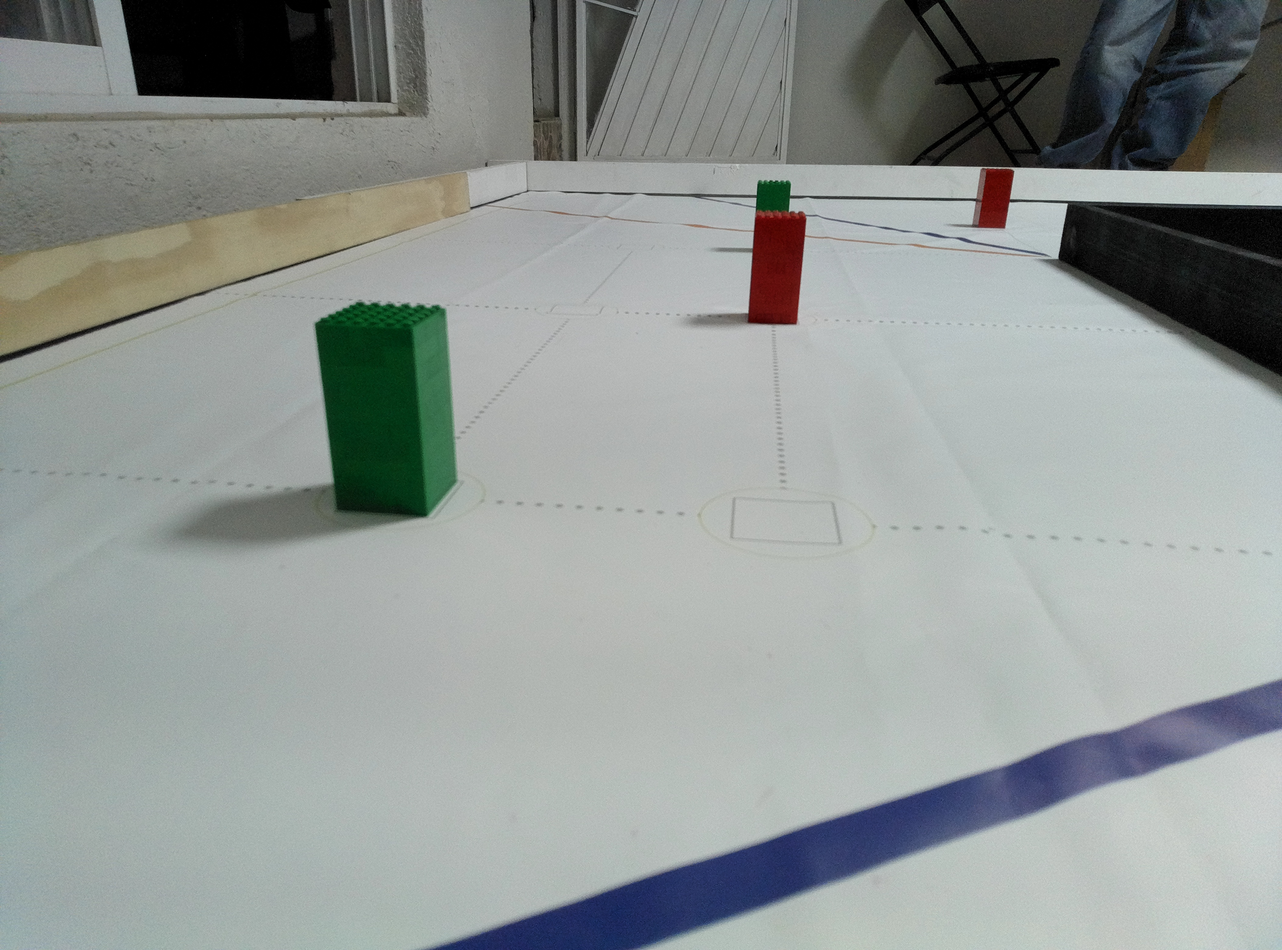greenbox: (312, 300, 461, 520), (756, 179, 792, 211)
redbox: (746, 211, 808, 324), (971, 168, 1015, 229)
